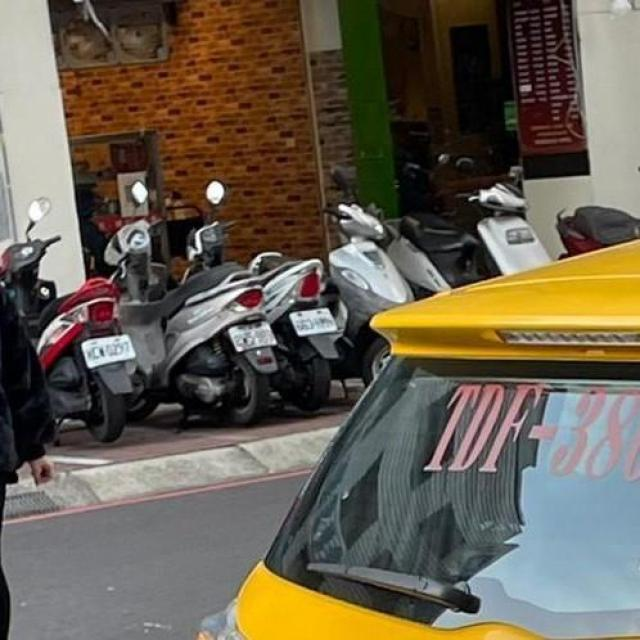W: (76, 329, 139, 371), (218, 318, 284, 358), (288, 302, 339, 339)
